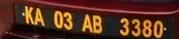0: (151, 19, 164, 38), (52, 9, 63, 27)
3: (62, 10, 74, 30), (118, 16, 130, 36), (130, 17, 140, 36)
8: (140, 18, 152, 36)
A: (34, 6, 46, 26), (81, 12, 92, 32)
B: (91, 13, 102, 33)
K: (22, 4, 35, 24)
